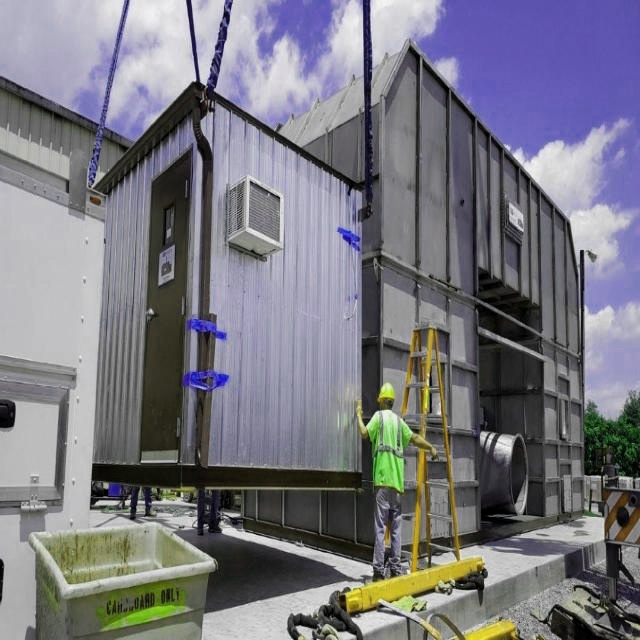Con_Casco: (377, 383, 395, 409)
Con_Chaleco: (374, 410, 404, 490)
